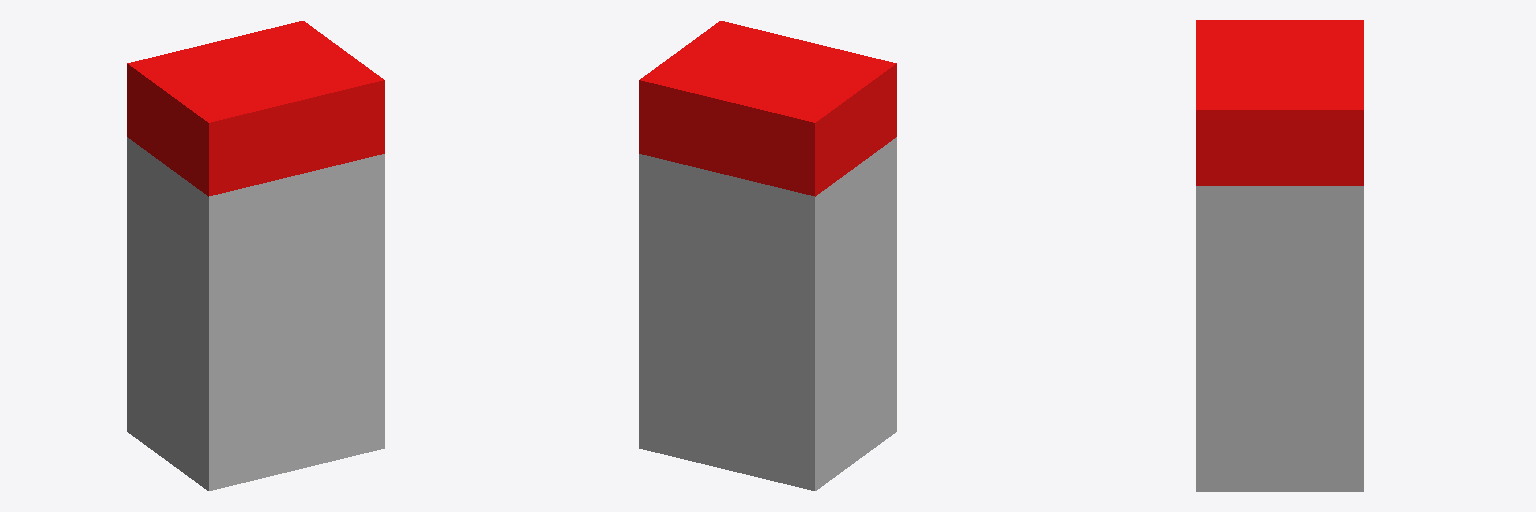
URDF robot description (part):
<?xml version="1.0"?>
<robot name="part"> 
  <link name="base_link">
    <visual>
      <geometry>
        <box size="0.5 0.4 0.2"/>
      </geometry>
      <origin xyz="0 0 0.1"/>
      <material name="Red">
        <color rgba="1 0.1 0.1 0.6"/>
      </material>
    </visual>
    <collision>
      <geometry>
        <box size="0.5 0.4 0.2"/>
      </geometry>
      <origin xyz="0 0 0.1"/>
    </collision>
    <visual>
      <geometry>
        <box size="0.5 0.4 0.8"/>
      </geometry>
      <origin xyz="0 0 -0.4"/>
      <material name="Grey">
        <color rgba="0.8 0.8 0.8 1"/>
      </material>
    </visual>
    <collision>
      <geometry>
        <box size="0.5 0.4 0.8"/>
      </geometry>
      <origin xyz="0 0 -0.4"/>
    </collision>
  </link>
</robot>

--- Facts derived from the render (not from the file) ---
Views: 3 orthographic renders of the robot side by side, from view 1: azimuth 30°, elevation 25°; view 2: azimuth 150°, elevation 25°; view 3: azimuth 270°, elevation 25°.
Model part with 1 links and 0 joints (none), rooted at base_link, posed all joints at 0.
Visible links, largest first — view 1: base_link; view 2: base_link; view 3: base_link.
Boxes of the visible links, x1,y1,x2,y2 form: base_link: [127, 21, 384, 490]; base_link: [639, 21, 896, 490]; base_link: [1196, 20, 1363, 491].
Size in the robot's own frame: 0.5 by 0.4 by 1 metres.
Geometry: primitives only (box / cylinder / sphere), no mesh files.